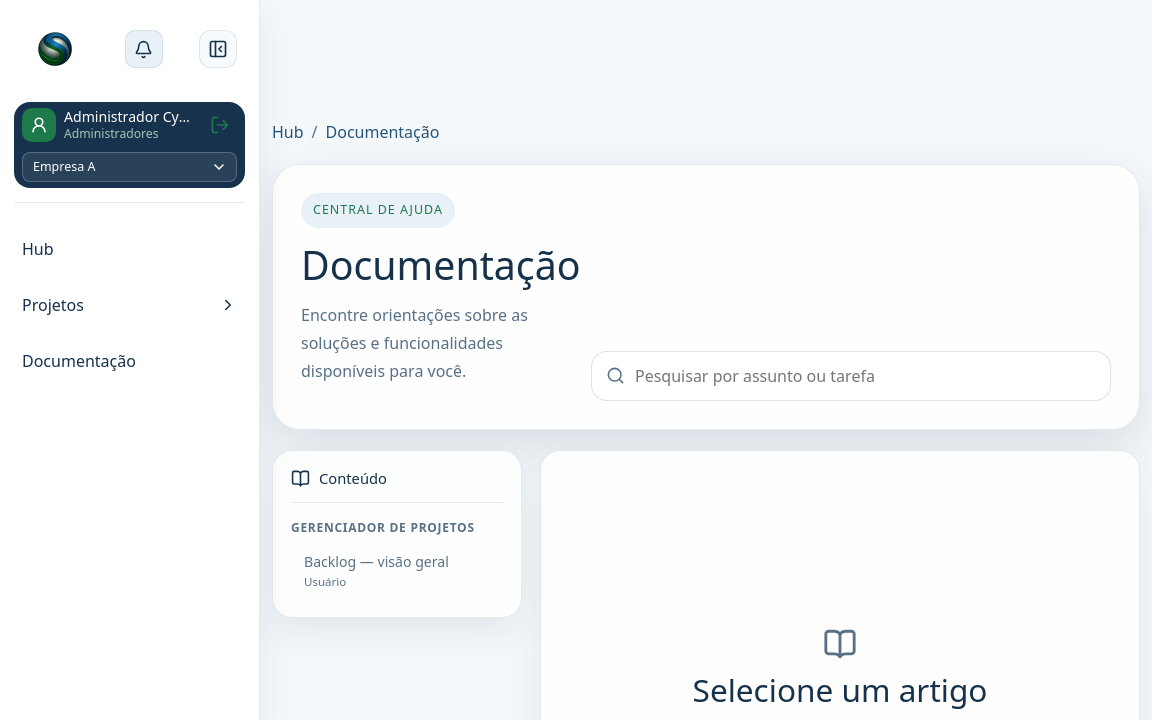
Test: Central de Documentação no navegador › pesquisa no backend e abre o resultado encontrado
The width and height of the screenshot is (1152, 720).
Type "prioridades" into the search field with placeholder "Pesquisar por assunto ou tarefa" at (866, 376), box [635, 364, 1096, 388]
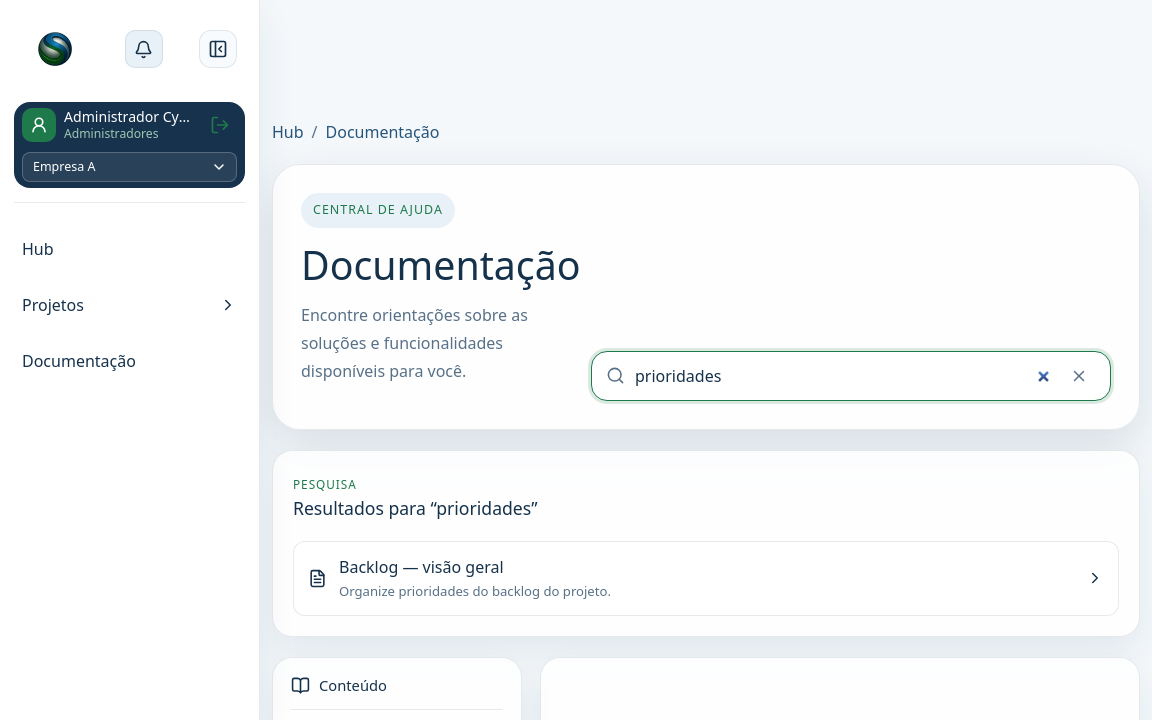
Expected: the button "Backlog — visão geral" is shown
Click the button "Backlog — visão geral" at (421, 567), box [293, 541, 1119, 616]
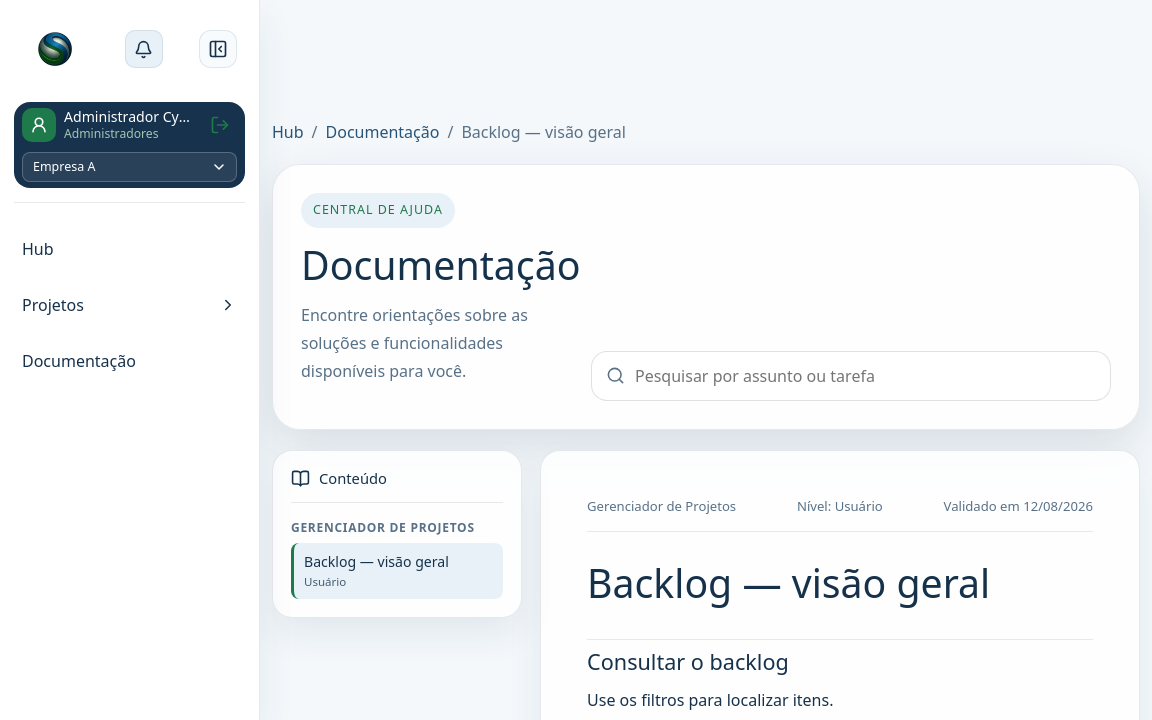
Expected: the heading "Consultar o backlog" is shown, [587, 639, 1093, 675]
